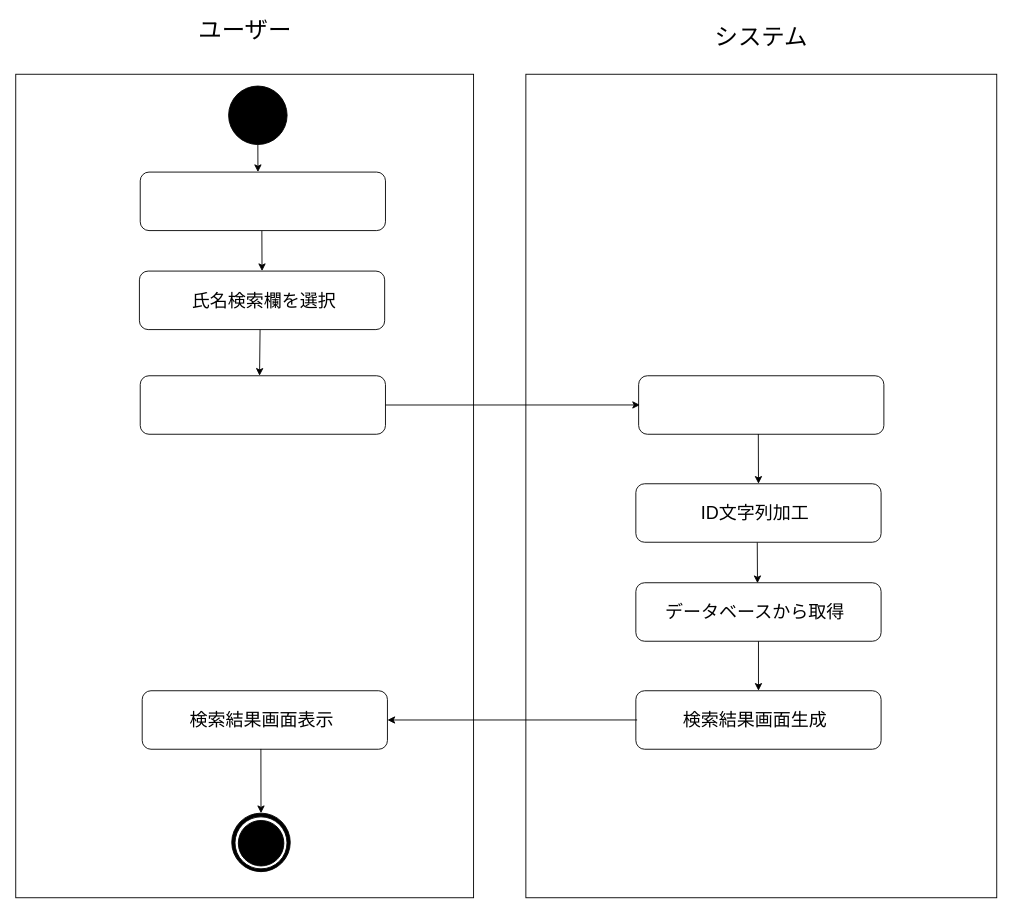
Image size: 1013x914. Some labels were removed from this diagram. The shapes that lost their labels are listed below. From the top down, each one's centre as x and y in pixels, then its label:
the point at 262,201: 各種アカウント管理画面表示
the point at 262,404: 氏名を入力
the point at 761,404: 氏名文字列受け取り
